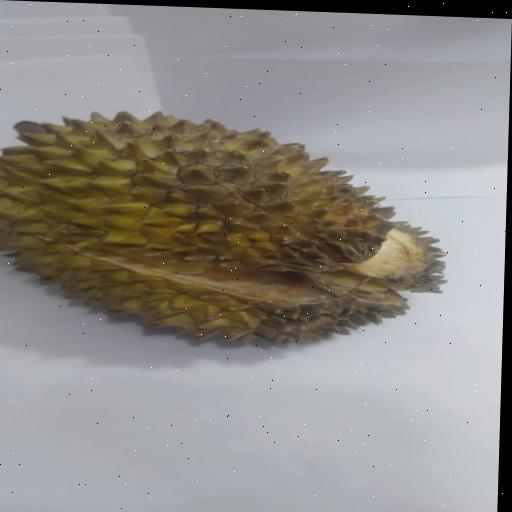rot: (0, 85, 509, 366)
